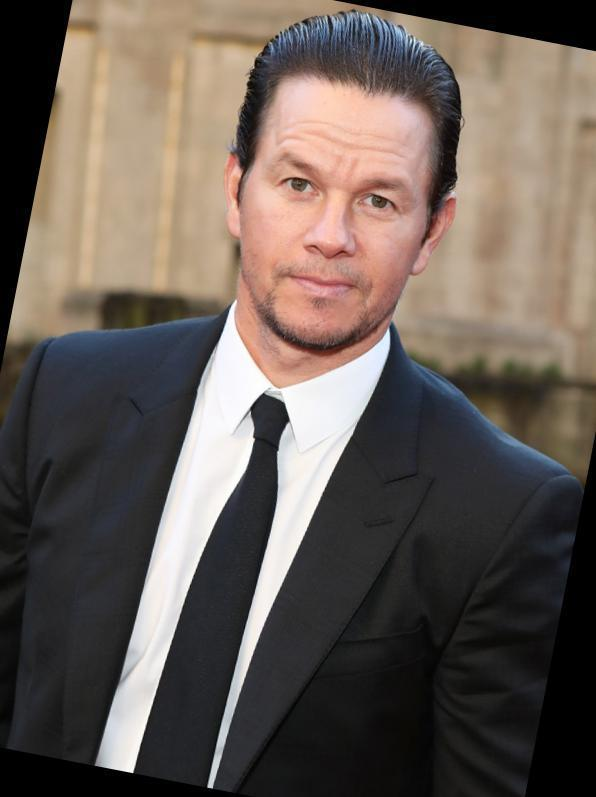Sober: (256, 89, 422, 317)
